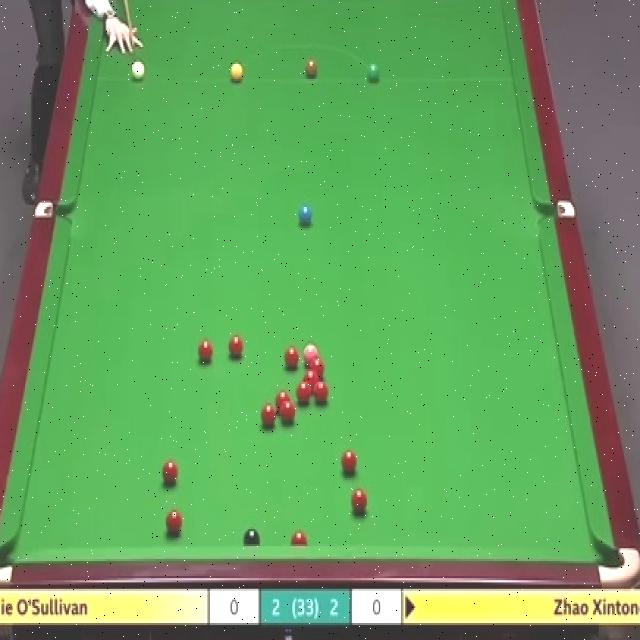black-ball: (243, 529, 262, 546)
blue-ball: (298, 206, 313, 224)
brown-ball: (306, 60, 318, 78)
green-ball: (366, 60, 381, 84)
pink-ball: (304, 343, 318, 365)
red-ball: (340, 447, 358, 475), (165, 511, 183, 536), (351, 489, 368, 515), (160, 460, 180, 482), (307, 357, 325, 381), (282, 348, 300, 370), (261, 402, 276, 428), (228, 332, 244, 356), (198, 342, 215, 362), (282, 401, 296, 422), (296, 381, 310, 402), (314, 381, 328, 402), (276, 391, 290, 411), (290, 531, 309, 545)
white-ball: (130, 59, 146, 82)
yellow-ball: (230, 62, 243, 83)
